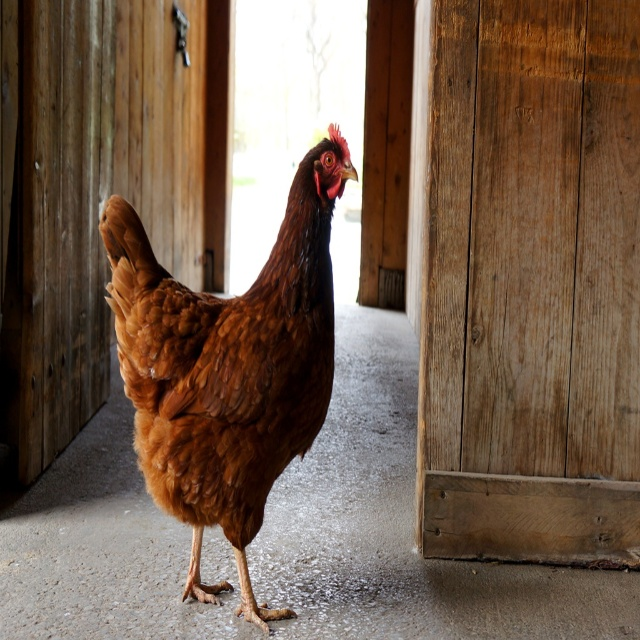Chicken: (98, 121, 362, 634)
